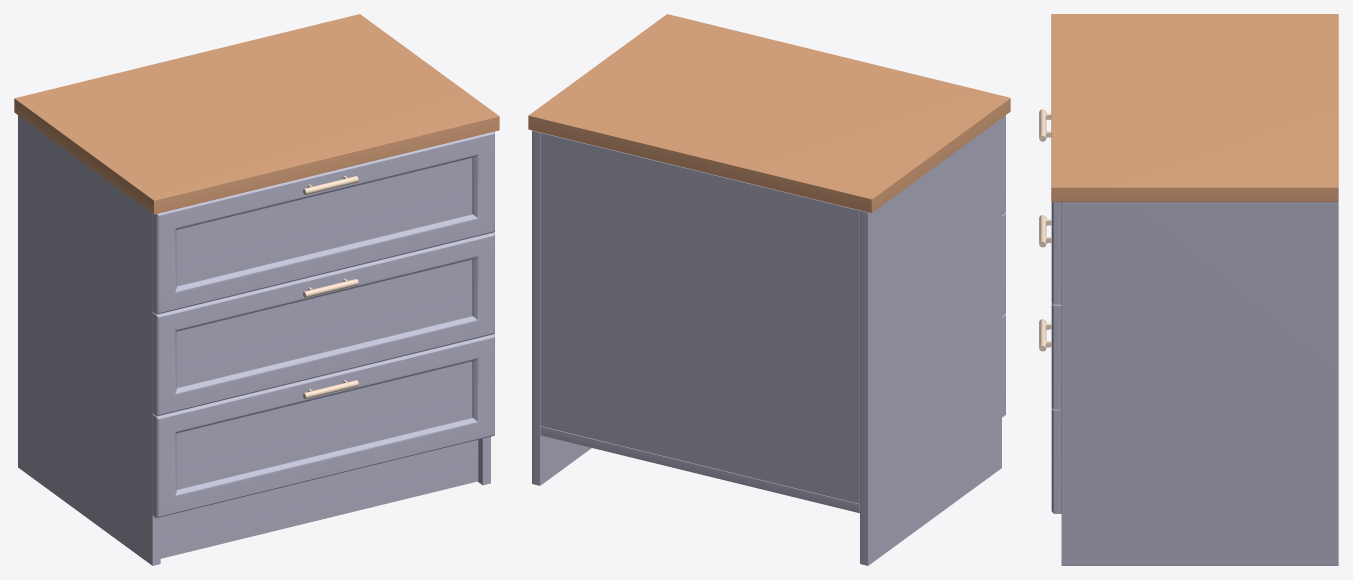
File: cupboard.fbx
3 views of the same model, side by side, from view 1: azimuth 30°, elevation 25°; view 2: azimuth 150°, elevation 25°; view 3: azimuth 270°, elevation 25° (orthographic). The views are drawn at different scales.
Parts seen in each view (by area): view 1: Cupboard var 2.7; view 2: Cupboard var 2.7; view 3: Cupboard var 2.7.
Part boxes in pixels (x1,y1,x2,y2): Cupboard var 2.7: [14, 14, 499, 565]; Cupboard var 2.7: [528, 14, 1010, 565]; Cupboard var 2.7: [1039, 14, 1338, 565].
Bounding box in the file's own units: 81.92 × 83.79 × 59.69.
